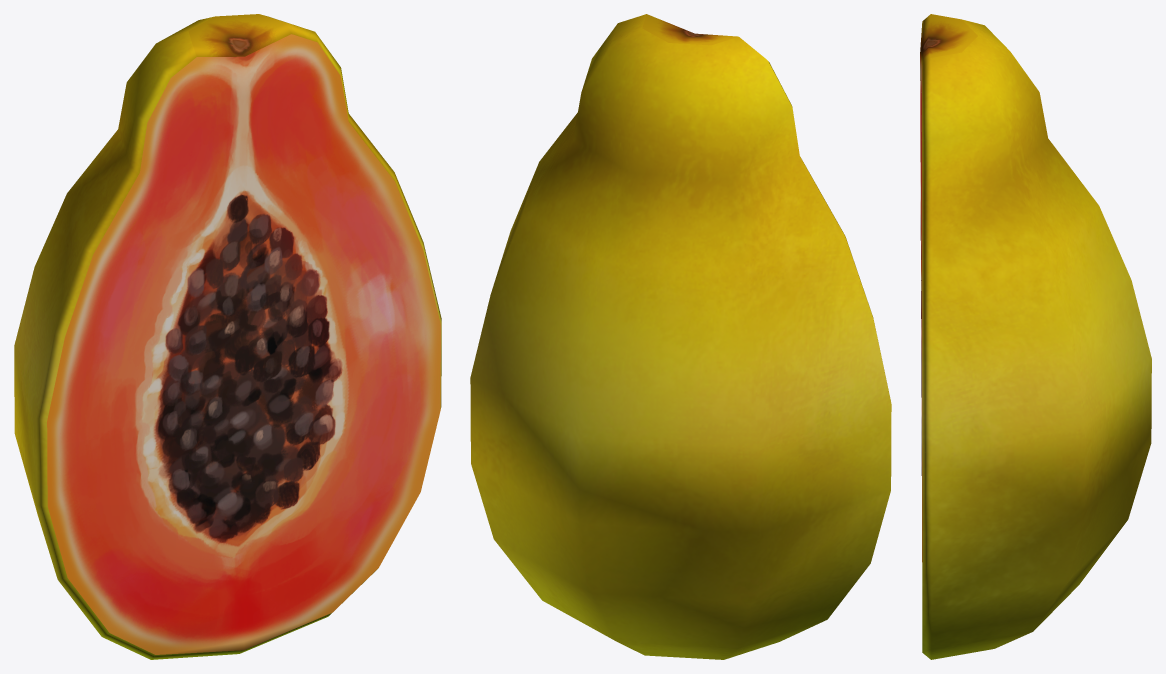
Rendered from Papaya_Half.fbx.
The picture shows the model from 3 angles, left to right: view 1: azimuth 30°, elevation 25°; view 2: azimuth 150°, elevation 25°; view 3: azimuth 270°, elevation 25°; orthographic projection. The views are drawn at different scales.
Parts seen in each view (by area): view 1: Papaya_Half; view 2: Papaya_Half; view 3: Papaya_Half.
Boxes of the visible parts, bbox=[...] form: Papaya_Half: bbox=[14, 14, 441, 659]; Papaya_Half: bbox=[470, 14, 891, 659]; Papaya_Half: bbox=[920, 14, 1151, 659].
Size of the model in its own units: 35.4 by 51.75 by 18.2.
1 material, 1 textured.
